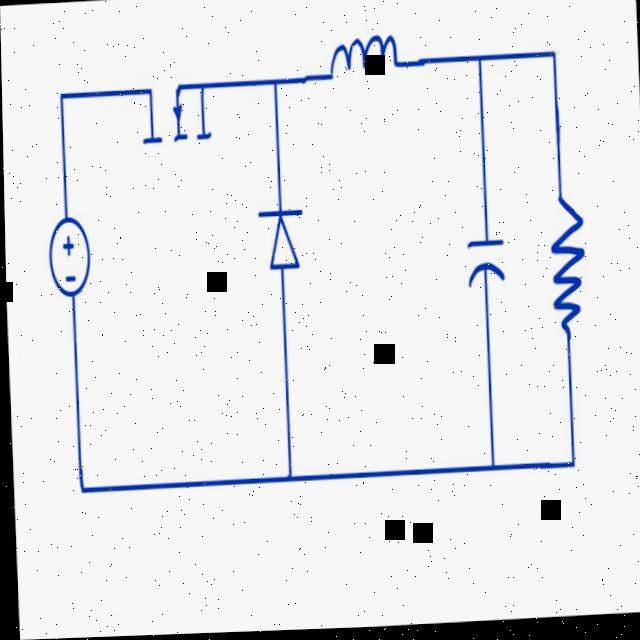capacitor: (445, 211, 511, 314)
diode: (246, 191, 319, 299)
inductor: (316, 24, 408, 116)
mosfet: (123, 53, 221, 172)
resistor: (540, 166, 600, 366)
source: (34, 204, 106, 311)
